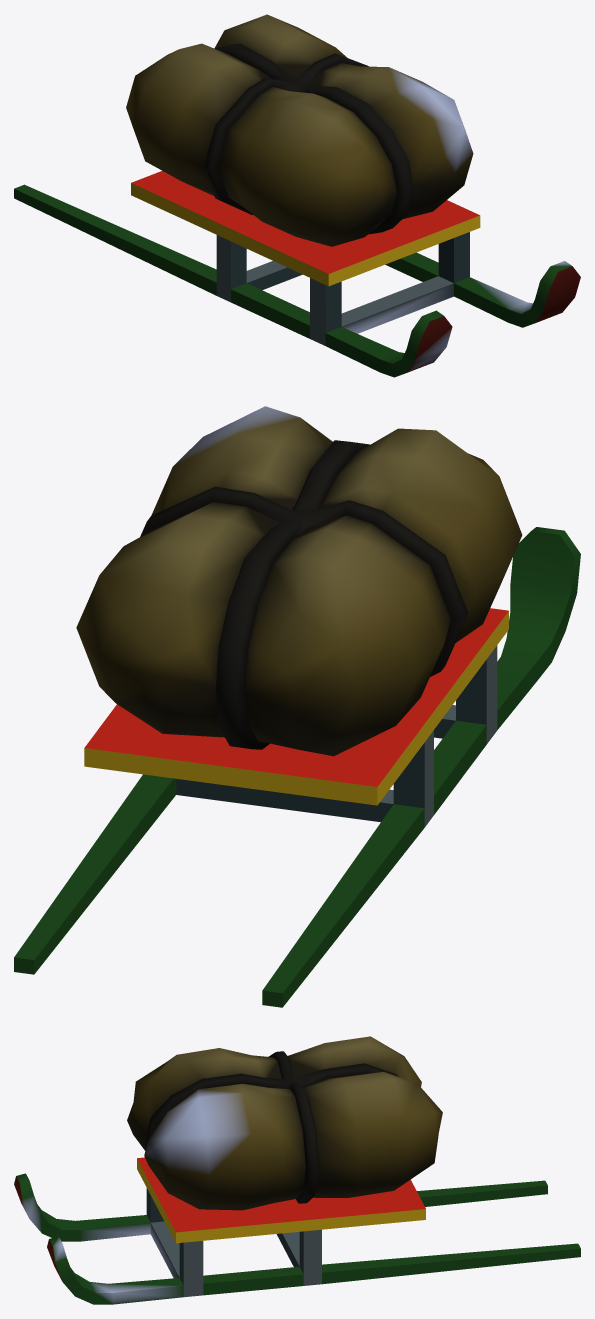
File: Sleigh_01.fbx
The picture shows the model from 3 angles, top to bottom: view 1: azimuth 30°, elevation 25°; view 2: azimuth 150°, elevation 25°; view 3: azimuth 270°, elevation 25°; orthographic projection. The views are drawn at different scales.
Parts seen in each view (by area): view 1: Sleigh_01; view 2: Sleigh_01; view 3: Sleigh_01.
Part boxes in pixels (x1=…): Sleigh_01: x1=14, y1=14, x2=580, y2=377; Sleigh_01: x1=14, y1=406, x2=580, y2=1007; Sleigh_01: x1=14, y1=1036, x2=580, y2=1304.
Bounding box in the file's own units: 1915 × 1339 × 3739.
